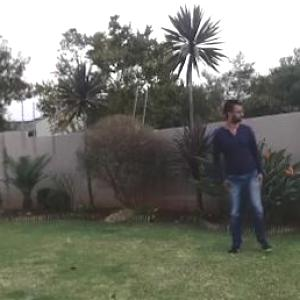follow: (216, 92, 264, 258)
